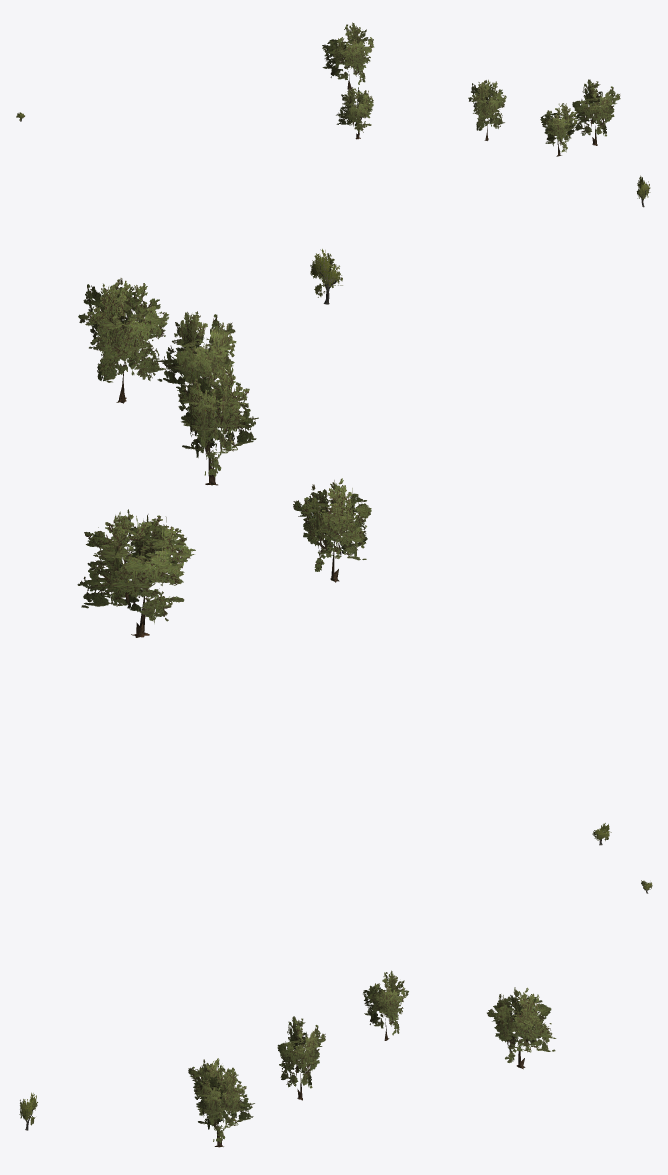
The picture shows the model from 3 angles, top to bottom: view 1: azimuth 30°, elevation 25°; view 2: azimuth 150°, elevation 25°; view 3: azimuth 270°, elevation 25°; orthographic projection. The views are drawn at different scales.
Visible parts, largest first — view 1: jacaranda_tree street foliage; view 2: jacaranda_tree street foliage, island_tree_01 street foliage; view 3: jacaranda_tree street foliage, island_tree_01 street foliage.
Part boxes in pixels (left/top/right/bottom): jacaranda_tree street foliage: left=322, top=22, right=620, bottom=152; jacaranda_tree street foliage: left=77, top=278, right=371, bottom=623; island_tree_01 street foliage: left=310, top=249, right=611, bottom=840; jacaranda_tree street foliage: left=188, top=970, right=556, bottom=1143; island_tree_01 street foliage: left=19, top=880, right=652, bottom=1125.
Bounding box in the file's own units: 126 × 17.23 × 124.
Materials: 4 (4 with a texture image).
